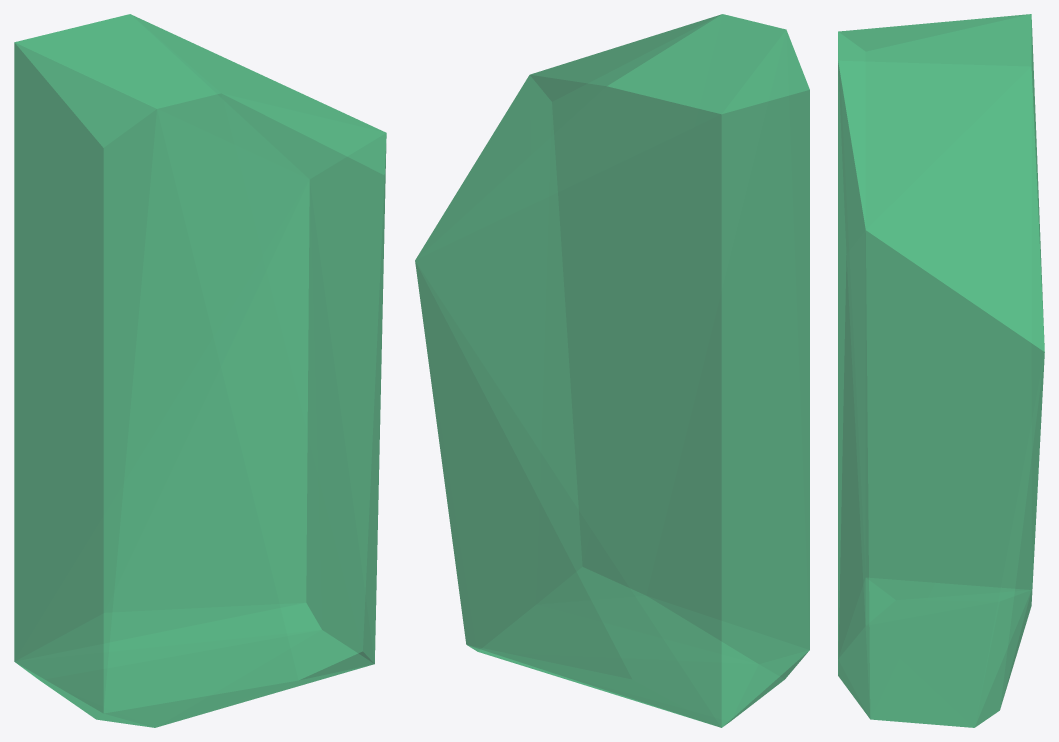
The picture shows the model from 3 angles, left to right: view 1: azimuth 30°, elevation 25°; view 2: azimuth 150°, elevation 25°; view 3: azimuth 270°, elevation 25°; orthographic projection. The views are drawn at different scales.
Visible parts, largest first — view 1: Shape_IndexedFaceSet.035_Shape_IndexedFaceSet.18096; view 2: Shape_IndexedFaceSet.035_Shape_IndexedFaceSet.18096; view 3: Shape_IndexedFaceSet.035_Shape_IndexedFaceSet.18096.
Boxes of the visible parts, x1=… form: Shape_IndexedFaceSet.035_Shape_IndexedFaceSet.18096: x1=14, y1=14, x2=386, y2=727; Shape_IndexedFaceSet.035_Shape_IndexedFaceSet.18096: x1=415, y1=14, x2=809, y2=727; Shape_IndexedFaceSet.035_Shape_IndexedFaceSet.18096: x1=838, y1=14, x2=1044, y2=727.
Size of the model in its own units: 0.0694 by 0.1388 by 0.0442.
